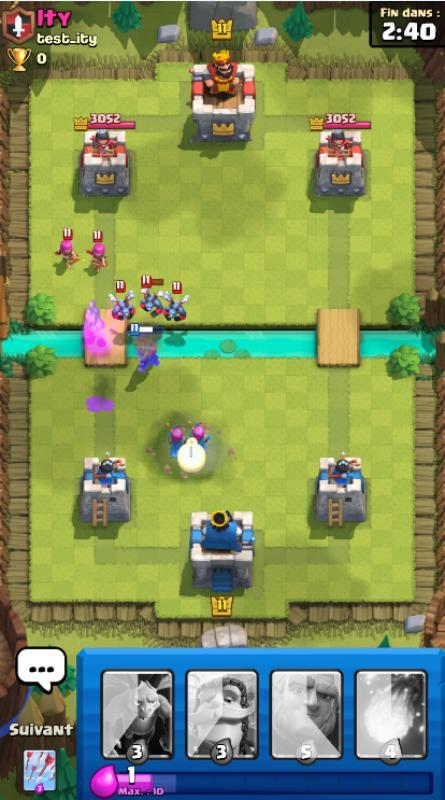archere: (53, 228, 87, 271), (86, 231, 112, 273), (165, 421, 187, 459), (188, 420, 212, 454)
gargouille: (163, 281, 191, 323), (108, 280, 136, 321), (139, 275, 165, 319)
mousquetaire: (130, 321, 164, 375)
